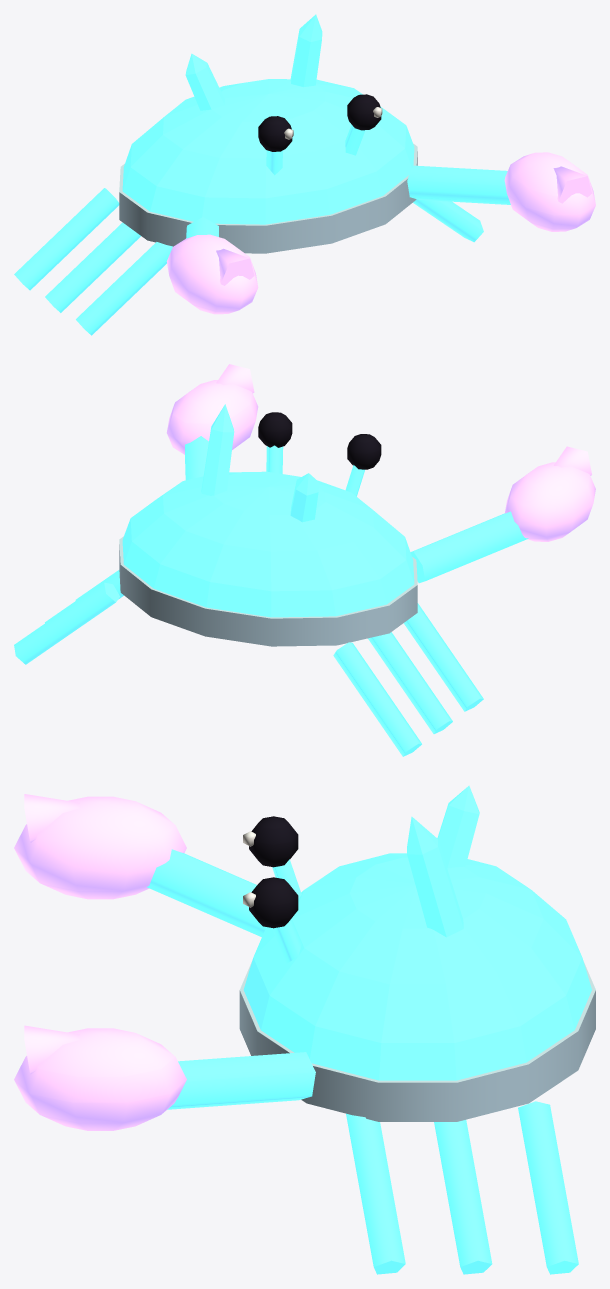
Rendered from monster_crystal_crab.glb.
3 views of the same model, one above another, from view 1: azimuth 30°, elevation 25°; view 2: azimuth 150°, elevation 25°; view 3: azimuth 270°, elevation 25° (orthographic). The views are drawn at different scales.
Parts seen in each view (by area): view 1: body_t0_crystal, body_t0_palette, arml_t0_crystal_violet, armr_t0_crystal_violet, armr_t0_crystal, arml_t0_crystal; view 2: body_t0_crystal, body_t0_palette, arml_t0_crystal_violet, armr_t0_crystal_violet, arml_t0_crystal, armr_t0_crystal; view 3: body_t0_crystal, body_t0_palette, armr_t0_crystal_violet, arml_t0_crystal_violet, armr_t0_crystal, arml_t0_crystal.
Part boxes in pixels (box(x1,y1,x2,y2)): body_t0_crystal: box(14, 14, 483, 335); body_t0_palette: box(119, 94, 417, 253); arml_t0_crystal_violet: box(166, 234, 258, 314); armr_t0_crystal_violet: box(504, 152, 595, 231); armr_t0_crystal: box(407, 165, 510, 204); arml_t0_crystal: box(186, 217, 218, 238); body_t0_crystal: box(14, 404, 483, 756); body_t0_palette: box(119, 412, 417, 646); arml_t0_crystal_violet: box(504, 446, 595, 541); armr_t0_crystal_violet: box(166, 364, 258, 454); arml_t0_crystal: box(410, 511, 528, 583); armr_t0_crystal: box(185, 436, 208, 480); body_t0_crystal: box(243, 785, 591, 1274); body_t0_palette: box(239, 816, 595, 1121); armr_t0_crystal_violet: box(14, 1025, 186, 1130); arml_t0_crystal_violet: box(14, 794, 186, 899); armr_t0_crystal: box(167, 1052, 315, 1109); arml_t0_crystal: box(146, 849, 265, 937).
Bounding box in the file's own units: 0.4561 × 0.274 × 0.4035.
